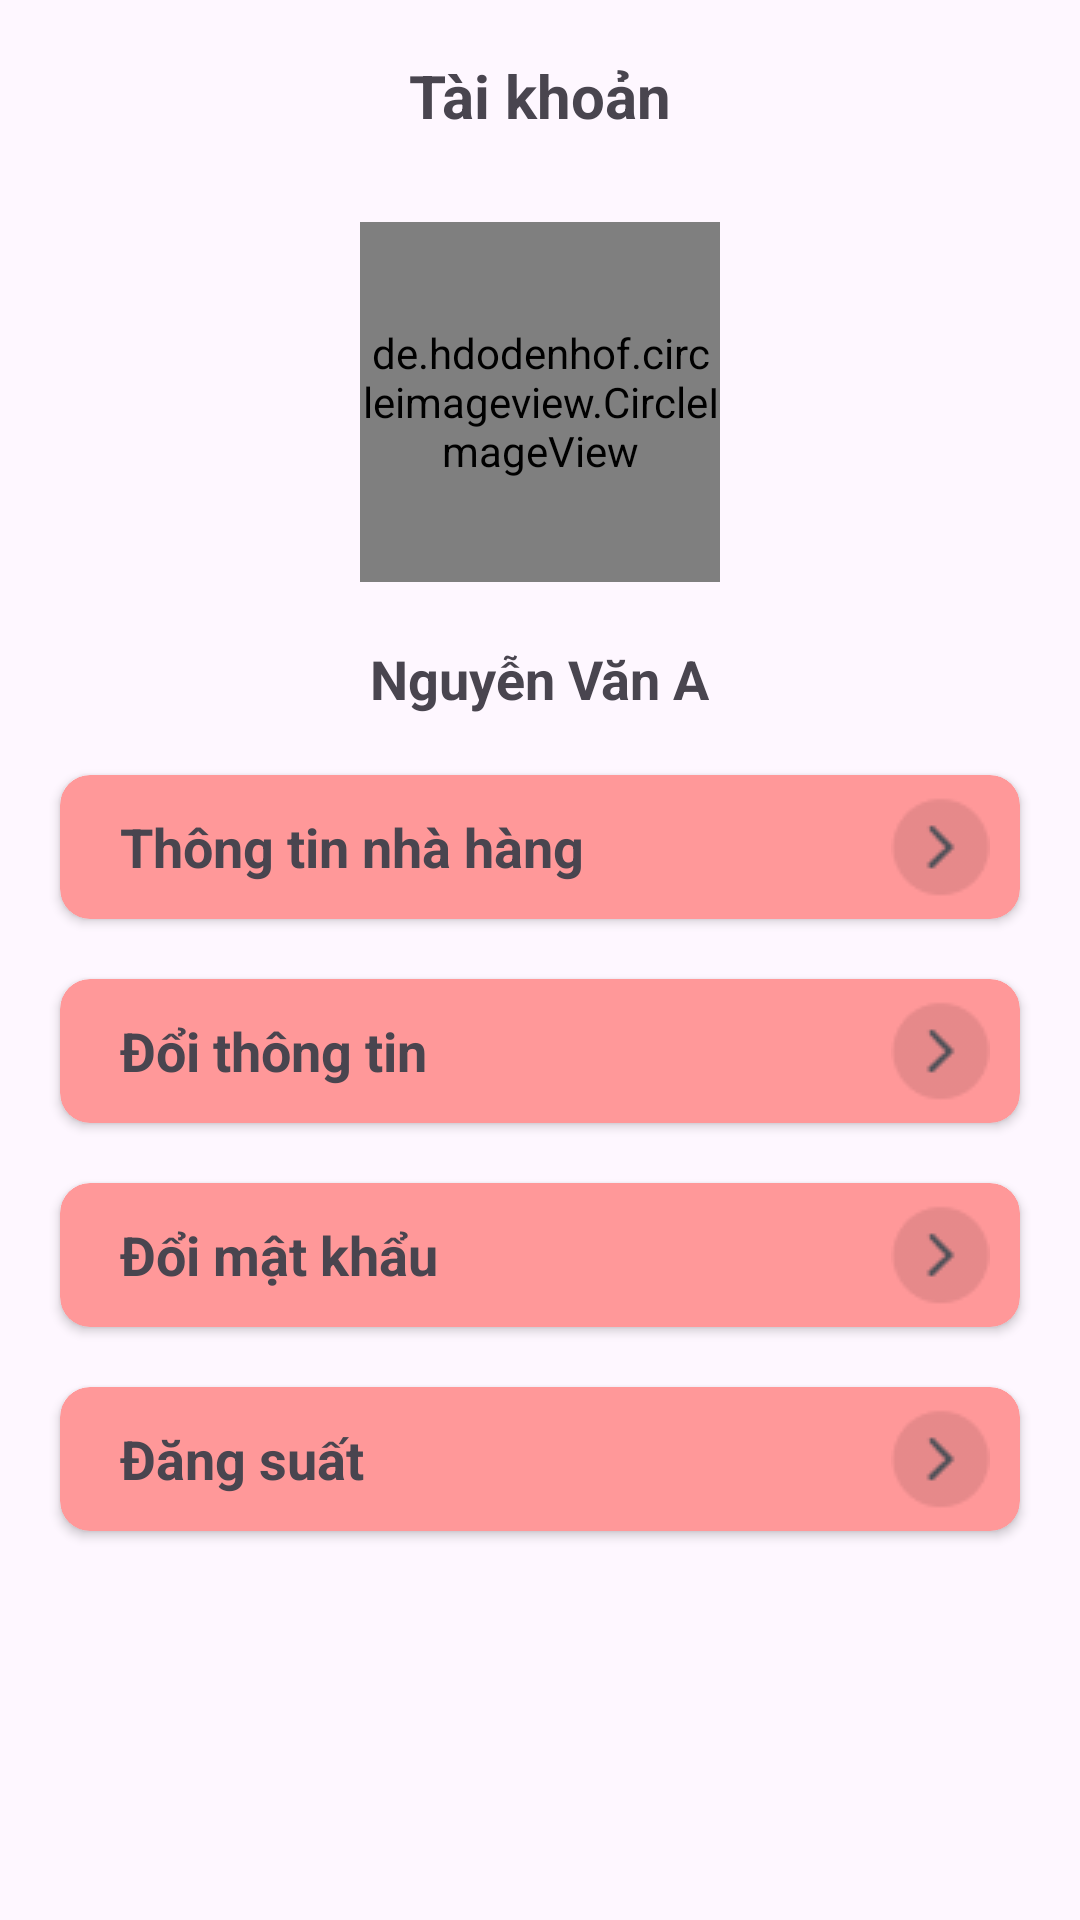

Icons on this 1080 x 1920 Android screen, each with the point to tap as (x=x, y=y):
arrow right: (x=940, y=848), (x=940, y=1052), (x=940, y=1256), (x=940, y=1460)
